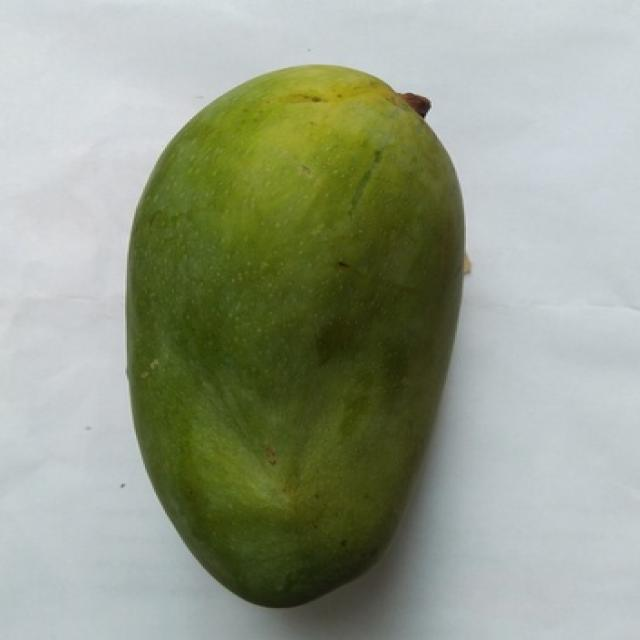Mango: (127, 65, 462, 605)
objects: (123, 62, 470, 608)
